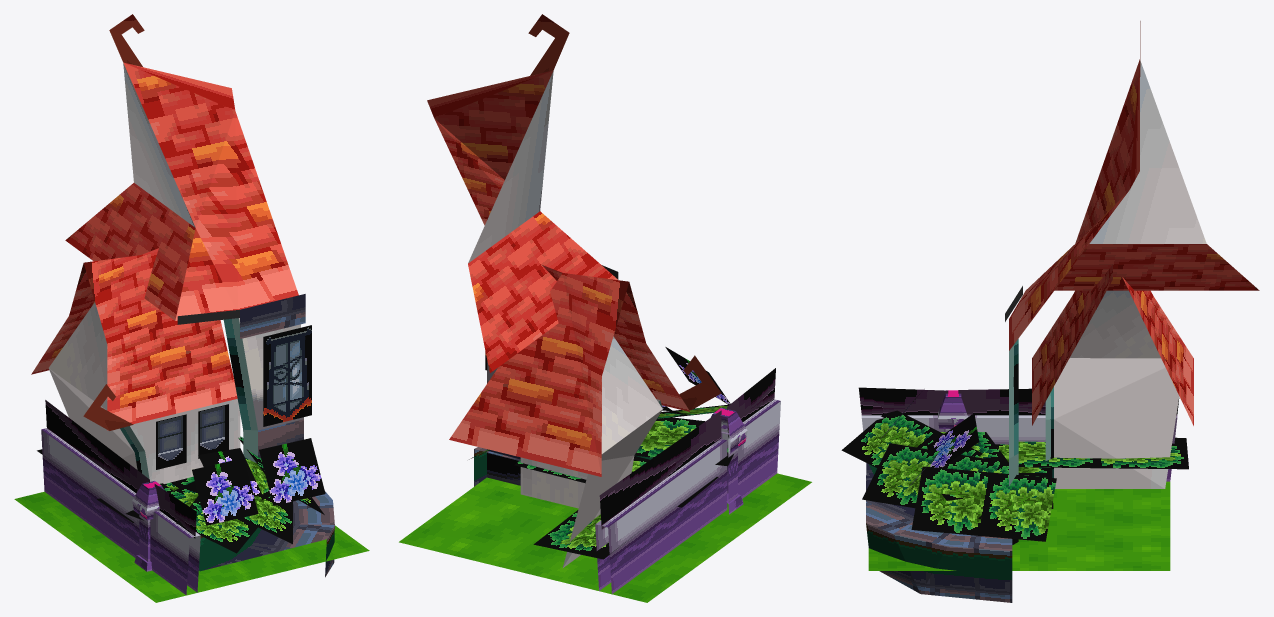
3 renders of one model, left to right at view 1: azimuth 30°, elevation 25°; view 2: azimuth 150°, elevation 25°; view 3: azimuth 270°, elevation 25°, orthographic. The views are drawn at different scales.
Parts seen in each view (by area): view 1: sc_b_00; view 2: sc_b_00; view 3: sc_b_00.
Boxes of the visible parts, x1,y1,x2,y2 form: sc_b_00: [14, 14, 369, 602]; sc_b_00: [399, 14, 811, 602]; sc_b_00: [841, 21, 1259, 602].
Bounding box in the file's own units: 2.09 × 4.45 × 3.19.
Materials: 12 (12 with a texture image).
